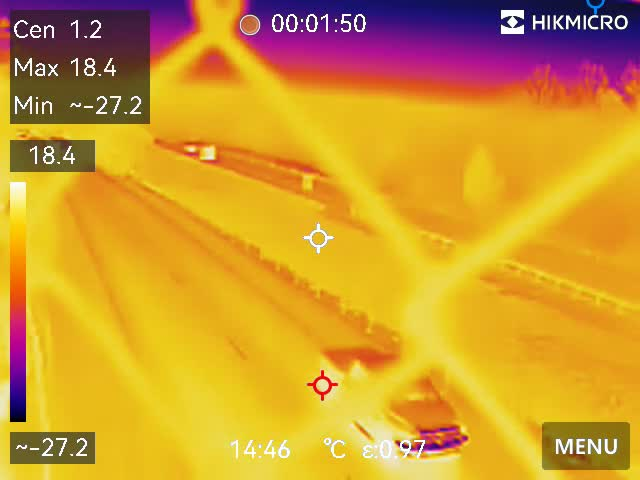lightTruck: (316, 336, 470, 466)
